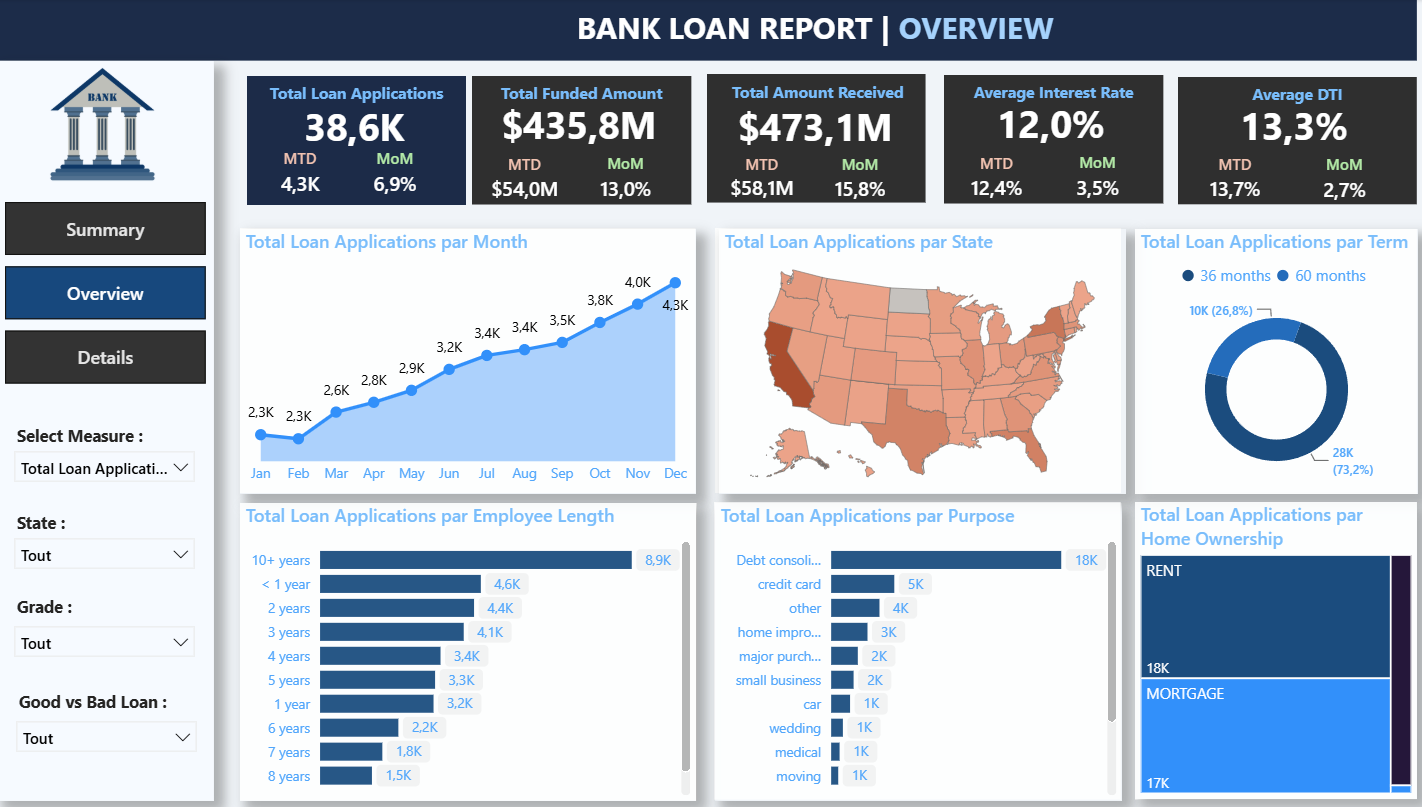

Layout of this report page (visuals, bound fields, positions):
{"tool":"powerbi","page":{"name":"Overview","canvas":[1280,720],"ordinal":1},"visuals":[{"type":"shape","box":[629.2,66.4,193.8,114.2],"z":0,"group":"g2"},{"type":"shape","box":[839.7,67.5,194.5,114],"z":0,"group":"g3"},{"type":"shape","box":[221.7,68.3,194.3,114.3],"z":0,"group":"g5"},{"type":"shape","box":[421.4,68.6,194.5,114],"z":0,"group":"g1"},{"type":"shape","box":[1047.5,69,211.7,112.9],"z":0,"group":"g4"},{"type":"shape","box":[215.5,203.1,404.3,235],"z":0},{"type":"shape","box":[0,0,1259.3,54.7],"z":1000},{"type":"card","fields":{"Values":["table_measures.avg_interest_rate"]},"box":[851.5,82.1,165.9,58.4],"z":1000,"group":"g3"},{"type":"card","fields":{"Values":["table_measures.total_loan_appl"]},"box":[254.6,82.9,124.3,61.3],"z":1000,"group":"g5"},{"type":"card","fields":{"Values":["table_measures.total_funded_amt"]},"box":[433.2,83.2,165.9,58.4],"z":1000,"group":"g1"},{"type":"card","fields":{"Values":["table_measures.avg_DTI"]},"box":[1060.3,83.4,180.6,57.8],"z":1000,"group":"g4"},{"type":"card","fields":{"Values":["table_measures.total_received_amt"]},"box":[643.2,85.3,163.1,55.8],"z":1000,"group":"g2"},{"type":"shape","box":[0,54.6,191.9,655.8],"z":2000,"group":"g6"},{"type":"textbox","box":[632.2,67,191,41.6],"z":2000,"group":"g2"},{"type":"textbox","box":[839.7,67.5,194.5,38.9],"z":2000,"group":"g3"},{"type":"textbox","box":[221.7,68.3,194.3,39],"z":2000,"group":"g5"},{"type":"textbox","box":[421.4,68.6,194.5,38.9],"z":2000,"group":"g1"},{"type":"textbox","box":[1047.5,69,211.7,38.5],"z":2000,"group":"g4"},{"type":"card","title":"MTD","fields":{"Values":["table_measures.MTD_loan_appl"]},"box":[243.1,132.4,51.4,50.2],"z":3000,"group":"g5"},{"type":"card","title":"MTD","fields":{"Values":["table_measures.MTD_interest_rate"]},"box":[851.5,136.3,70.1,48.6],"z":3000,"group":"g3"},{"type":"card","title":"MTD","fields":{"Values":["table_measures.MTD_received_amt"]},"box":[643.2,137.1,68.9,46.5],"z":3000,"group":"g2"},{"type":"card","title":"MTD","fields":{"Values":["table_measures.MTD_avg_DTI"]},"box":[1060.3,137.1,76.3,48.2],"z":3000,"group":"g4"},{"type":"card","title":"MTD","fields":{"Values":["table_measures.MTD_funded_amt"]},"box":[433.2,137.4,70.1,48.6],"z":3000,"group":"g1"},{"type":"textbox","box":[12.4,448.7,119.7,38.5],"z":3000,"group":"g6"},{"type":"textbox","box":[509.2,1.4,447.3,49.5],"z":4000},{"type":"card","title":"MoM","fields":{"Values":["table_measures.MOM_loan_appl"]},"box":[327.4,132.4,51.4,50.2],"z":4000,"group":"g5"},{"type":"card","title":"MoM","fields":{"Values":["table_measures.MOM_interest_rate"]},"box":[946.6,136.1,57.8,49.7],"z":4000,"group":"g3"},{"type":"card","title":"MoM","fields":{"Values":["table_measures.MOM_received_amt"]},"box":[736.7,136.9,56.8,47.5],"z":4000,"group":"g2"},{"type":"card","title":"MoM","fields":{"Values":["table_measures.MOM_avg_DTI"]},"box":[1163.9,136.9,62.9,49.2],"z":4000,"group":"g4"},{"type":"card","title":"MoM","fields":{"Values":["table_measures.MOM_funded_amt"]},"box":[528.3,137.2,57.8,49.7],"z":4000,"group":"g1"},{"type":"group","id":"g1","title":"Group 1","box":[421.4,68.6,194.3,118],"z":6000},{"type":"group","id":"g2","title":"Group 1","box":[629.2,66.4,194,118],"z":7000},{"type":"group","id":"g3","title":"Group 1","box":[839.7,67.5,194.5,118.2],"z":8000},{"type":"group","id":"g4","title":"Group 1","box":[1047.5,69,211.5,116.9],"z":9000},{"type":"shape","box":[636.7,203.1,360,235],"z":10000},{"type":"slicer","fields":{"Values":["financial_loan.address_state"]},"box":[5.5,467.9,180.3,50.9],"z":11000,"group":"g6"},{"type":"slicer","fields":{"Values":["financial_loan.grade"]},"box":[5.5,546.4,180.3,50.9],"z":12000,"group":"g6"},{"type":"textbox","box":[12.4,523,119.7,38.5],"z":13000,"group":"g6"},{"type":"slicer","fields":{"Values":["financial_loan.Good vs Band Loan"]},"box":[6.9,630.3,180.3,50.9],"z":14000,"group":"g6"},{"type":"textbox","box":[13.8,606.9,163.8,38.5],"z":15000,"group":"g6"},{"type":"areaChart","fields":{"Y":["table_measures.total_loan_appl"],"Category":["Date Table.Month"]},"box":[215.5,203.9,404.3,235],"z":16000},{"type":"slicer","fields":{"Values":["Select Measure.Select Measure"]},"box":[5.5,390.8,180.3,55.1],"z":17000,"group":"g6"},{"type":"shape","box":[215.5,446.9,405.2,264.2],"z":18000},{"type":"shapeMap","fields":{"Value":["table_measures.total_loan_appl"],"Category":["financial_loan.address_state"]},"box":[640.2,203.9,360.9,235],"z":19000},{"type":"shape","box":[1008.9,203.7,250.5,235.4],"z":20000},{"type":"donutChart","fields":{"Y":["table_measures.total_loan_appl"],"Category":["financial_loan.term"]},"box":[1009.1,203.9,250.9,235],"z":21000},{"type":"barChart","fields":{"Y":["table_measures.total_loan_appl"],"Category":["financial_loan.emp_length"]},"box":[215.5,446.9,404.3,264.2],"z":22000},{"type":"textbox","box":[12.4,371.6,139,38.5],"z":23000,"group":"g6"},{"type":"shape","box":[635.9,445.9,360.6,264.3],"z":24000},{"type":"barChart","fields":{"Y":["table_measures.total_loan_appl"],"Category":["financial_loan.purpose"]},"box":[636.7,446.9,360.9,264.2],"z":25000},{"type":"shape","box":[1008.9,445.9,250.5,264.3],"z":26000},{"type":"treemap","fields":{"Values":["table_measures.total_loan_appl"],"Group":["financial_loan.home_ownership"]},"box":[1009.1,446,250,263.3],"z":27000},{"type":"pageNavigator","box":[6.9,180.3,178.9,163.8],"z":28000,"group":"g6"},{"type":"image","box":[0,44.3,187.1,133],"z":29000,"group":"g6"},{"type":"group","id":"g5","title":"Group 1","box":[221.7,68.3,194.2,114.4],"z":29001},{"type":"group","id":"g6","title":"Groupe 1","box":[0,44.3,191.9,666.1],"z":29002}]}

Visuals, with their boxes in screenshot pixels (x1, y1, x2, y2), scaled from the page's 1280x720 canvas onto the 1422x807 screenshot:
shape: l=699, t=74, r=914, b=202
shape: l=933, t=76, r=1149, b=203
shape: l=246, t=77, r=462, b=205
shape: l=468, t=77, r=684, b=205
shape: l=1164, t=77, r=1399, b=204
shape: l=239, t=228, r=689, b=491
shape: l=0, t=0, r=1399, b=61
card - table_measures.avg_interest_rate: l=946, t=92, r=1130, b=157
card - table_measures.total_loan_appl: l=283, t=93, r=421, b=162
card - table_measures.total_funded_amt: l=481, t=93, r=666, b=159
card - table_measures.avg_DTI: l=1178, t=93, r=1379, b=158
card - table_measures.total_received_amt: l=715, t=96, r=896, b=158
shape: l=0, t=61, r=213, b=796
textbox: l=702, t=75, r=915, b=122
textbox: l=933, t=76, r=1149, b=119
textbox: l=246, t=77, r=462, b=120
textbox: l=468, t=77, r=684, b=120
textbox: l=1164, t=77, r=1399, b=120
"MTD" card: l=270, t=148, r=327, b=205
"MTD" card: l=946, t=153, r=1024, b=207
"MTD" card: l=715, t=154, r=791, b=206
"MTD" card: l=1178, t=154, r=1263, b=208
"MTD" card: l=481, t=154, r=559, b=208
textbox: l=14, t=503, r=147, b=546
textbox: l=566, t=2, r=1063, b=57
"MoM" card: l=364, t=148, r=421, b=205
"MoM" card: l=1052, t=153, r=1116, b=208
"MoM" card: l=818, t=153, r=882, b=207
"MoM" card: l=1293, t=153, r=1363, b=209
"MoM" card: l=587, t=154, r=651, b=209
"Group 1" group: l=468, t=77, r=684, b=209
"Group 1" group: l=699, t=74, r=915, b=207
"Group 1" group: l=933, t=76, r=1149, b=208
"Group 1" group: l=1164, t=77, r=1399, b=208
shape: l=707, t=228, r=1107, b=491
slicer - financial_loan.address_state: l=6, t=524, r=206, b=581
slicer - financial_loan.grade: l=6, t=612, r=206, b=669
textbox: l=14, t=586, r=147, b=629
slicer - financial_loan.Good vs Band Loan: l=8, t=706, r=208, b=764
textbox: l=15, t=680, r=197, b=723
areaChart - table_measures.total_loan_appl x Date Table.Month: l=239, t=229, r=689, b=492
slicer - Select Measure.Select Measure: l=6, t=438, r=206, b=500
shape: l=239, t=501, r=690, b=797
shapeMap - table_measures.total_loan_appl x financial_loan.address_state: l=711, t=229, r=1112, b=492
shape: l=1121, t=228, r=1399, b=492
donutChart - table_measures.total_loan_appl x financial_loan.term: l=1121, t=229, r=1400, b=492
barChart - table_measures.total_loan_appl x financial_loan.emp_length: l=239, t=501, r=689, b=797
textbox: l=14, t=417, r=168, b=460
shape: l=706, t=500, r=1107, b=796
barChart - table_measures.total_loan_appl x financial_loan.purpose: l=707, t=501, r=1108, b=797
shape: l=1121, t=500, r=1399, b=796
treemap - table_measures.total_loan_appl x financial_loan.home_ownership: l=1121, t=500, r=1399, b=795
pageNavigator: l=8, t=202, r=206, b=386
image: l=0, t=50, r=208, b=199
"Group 1" group: l=246, t=77, r=462, b=205
"Groupe 1" group: l=0, t=50, r=213, b=796
